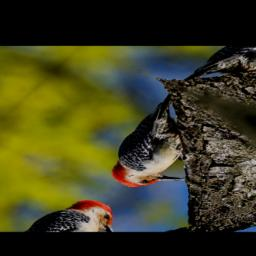Woodpecker: (88, 95, 244, 202)
